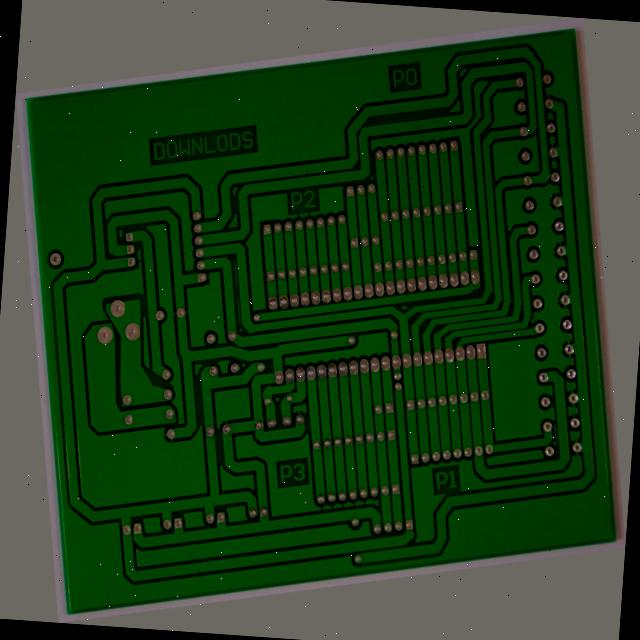spurious_copper: (227, 224, 242, 266), (224, 270, 238, 308), (554, 494, 564, 520)
